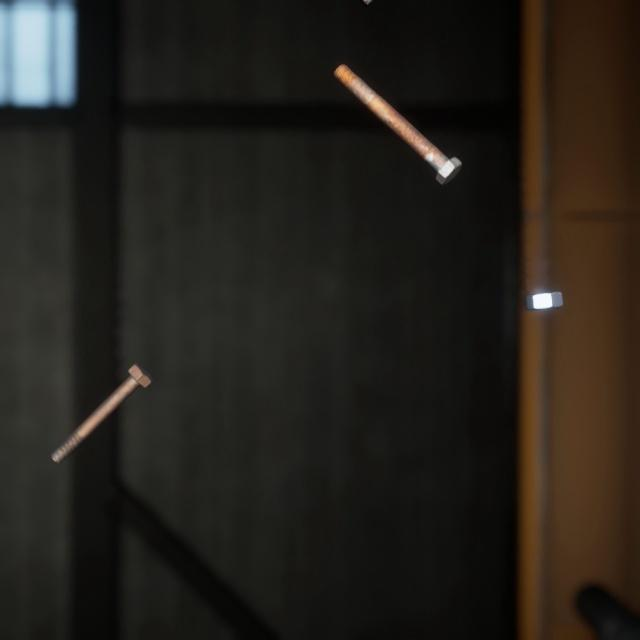bolt: (329, 48, 466, 177), (46, 338, 157, 448)
nut: (521, 269, 567, 297)
